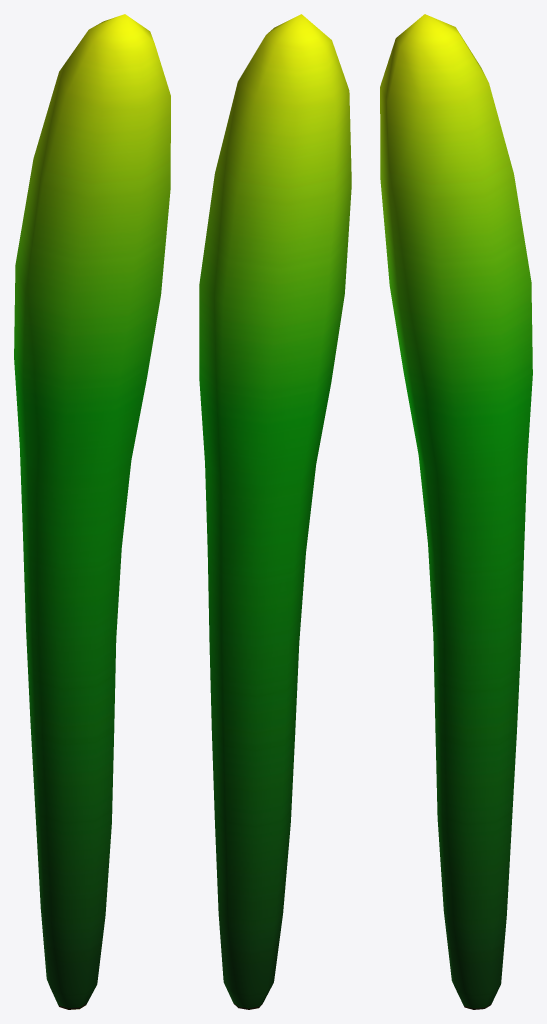
Rendered from AF_M_Prop_15.FBX.
3 views of the same model, side by side, from view 1: azimuth 90°, elevation 25°; view 2: azimuth 150°, elevation 25°; view 3: azimuth 270°, elevation 25° (orthographic). The views are drawn at different scales.
Parts seen in each view (by area): view 1: AF_M_Prop_15; view 2: AF_M_Prop_15; view 3: AF_M_Prop_15.
Boxes of the visible parts, x1=… form: AF_M_Prop_15: x1=14, y1=14, x2=170, y2=1009; AF_M_Prop_15: x1=199, y1=14, x2=351, y2=1009; AF_M_Prop_15: x1=380, y1=14, x2=532, y2=1009.
Bounding box in the file's own units: 61.24 × 459 × 65.04.
Materials: 1 (1 with a texture image).
